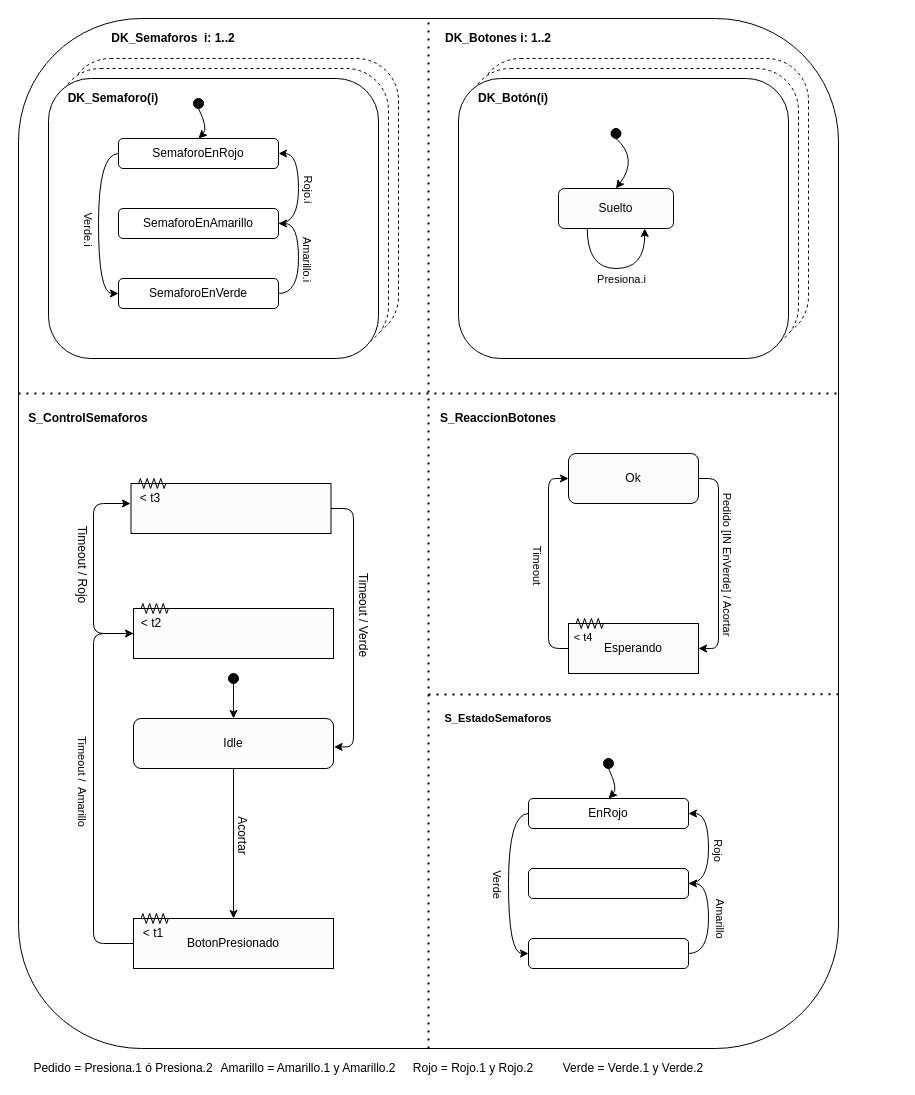
This 915x1095 diagram has some shape labels left out. Here are the shapes that lost their labels. From the top down, the box of each, then its label:
(130, 482, 331, 534): SemaforosEnRojo
(132, 608, 334, 658): SemaforosEnAmarillo
(528, 868, 688, 898): EnAmarillo
(528, 938, 688, 968): EnVerde
